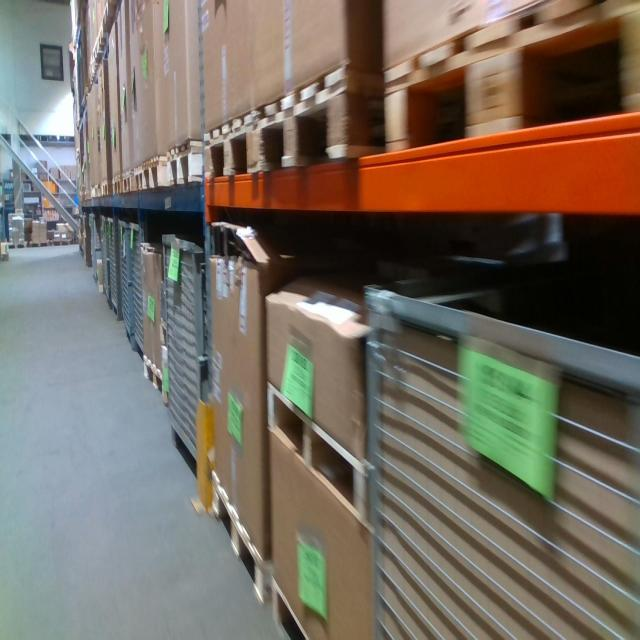pallet: (384, 0, 557, 152), (266, 381, 371, 526), (257, 62, 380, 174), (208, 468, 272, 608), (203, 107, 259, 193), (271, 573, 316, 640), (167, 138, 203, 196), (141, 352, 167, 395), (144, 154, 167, 190), (134, 158, 148, 191), (111, 171, 123, 201), (122, 171, 136, 196), (102, 178, 111, 196), (8, 242, 27, 249), (30, 241, 49, 248), (52, 239, 71, 246)
stillage: (363, 236, 637, 640), (162, 230, 205, 475), (128, 215, 152, 365), (116, 214, 134, 347), (105, 214, 122, 320), (97, 211, 112, 308), (88, 210, 100, 290)
